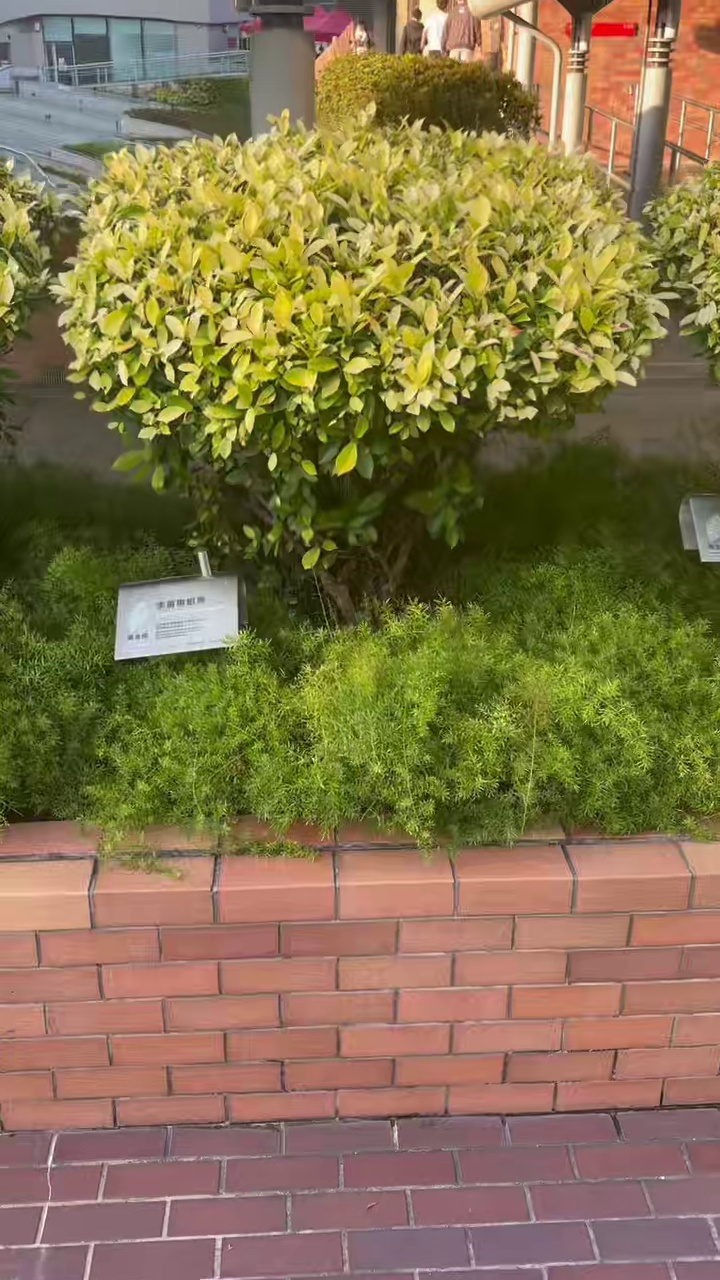Golden-leaves Fig: (56, 113, 665, 620)
